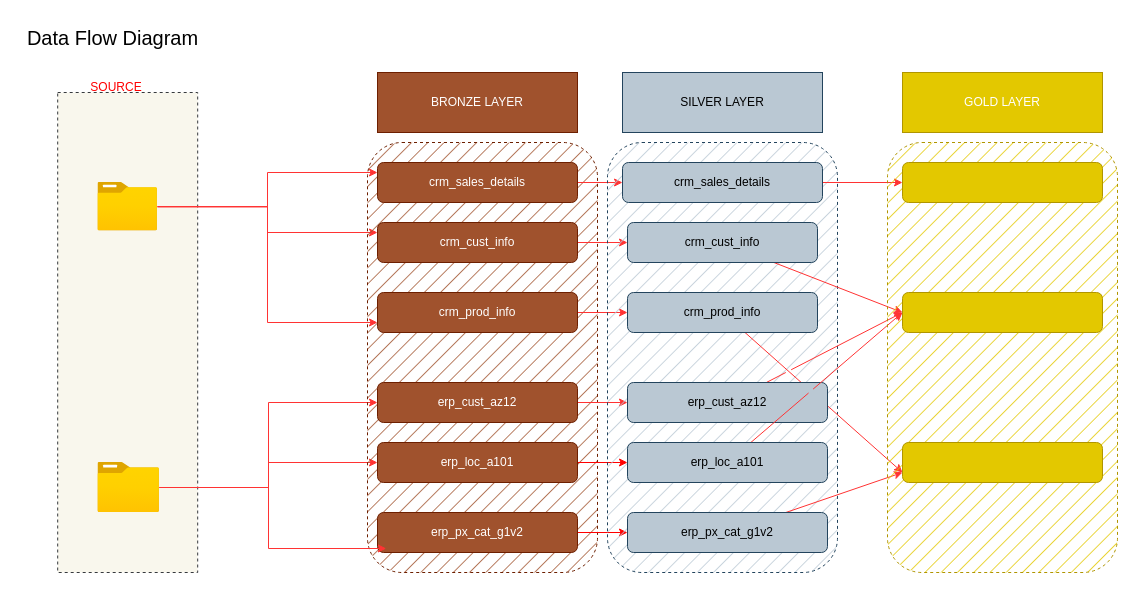
Image size: 1135x590. Some labels were removed from this diagram. Each missing label, with the box of its shape:
CRM: (97, 182, 157, 230)
dim_customers: (902, 292, 1102, 332)
dim_products: (902, 442, 1102, 482)
ERP: (97, 462, 159, 512)
fact_sales: (902, 162, 1102, 202)
